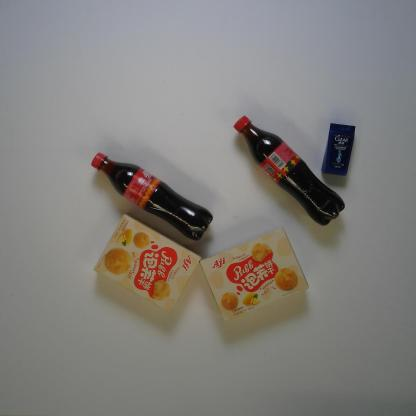Dessert: (92, 212, 203, 314), (197, 228, 310, 324)
Drink: (232, 114, 346, 228), (90, 150, 214, 243)
Personal Hygiene: (319, 122, 358, 178)
